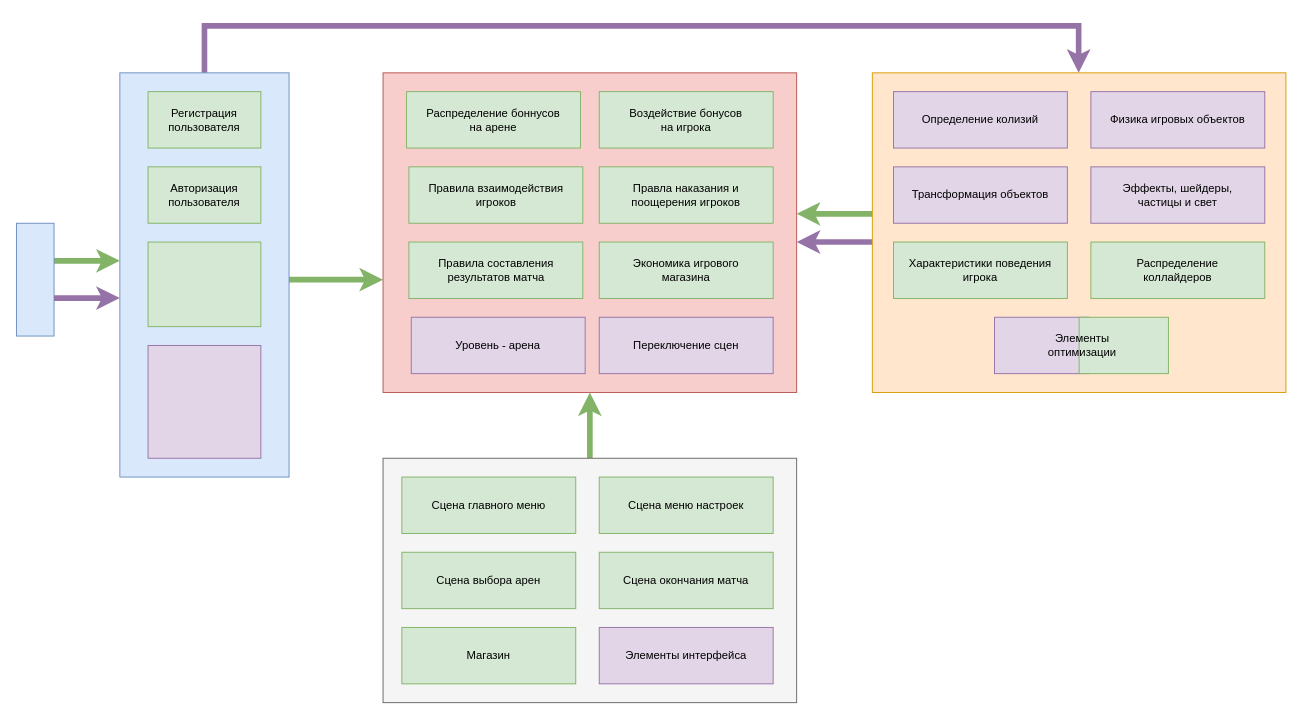
Image size: 1303x719. Some labels were removed from this diagram. Each missing label, with the box of its shape:
API: (16, 222, 54, 336)
CRUD данных: (147, 241, 261, 327)
Информация о данном матче: (147, 345, 261, 458)
